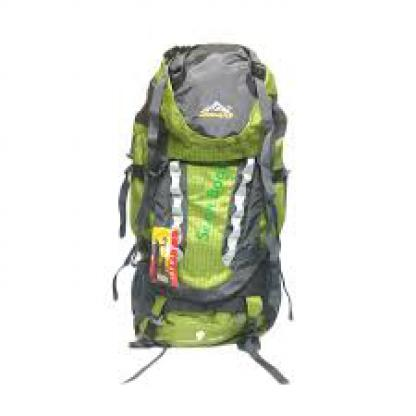morral: (102, 33, 342, 396)
